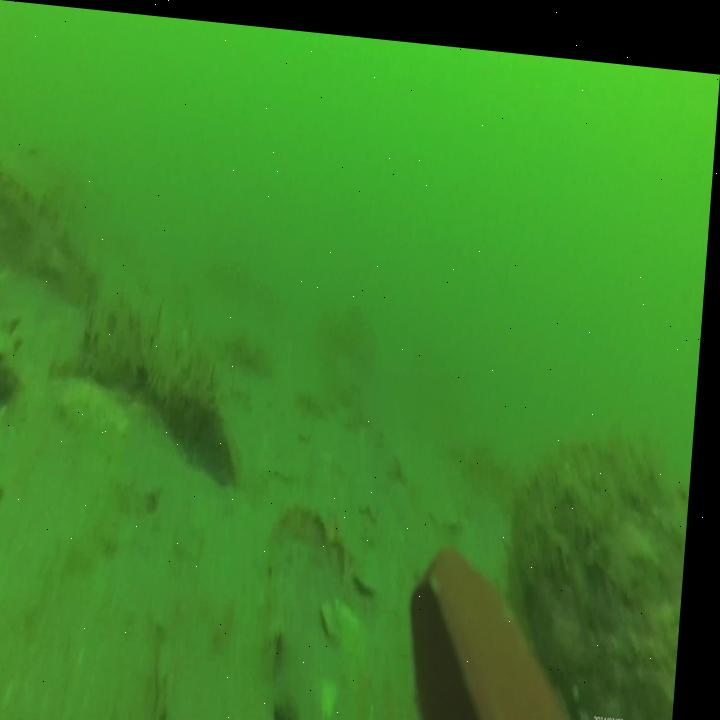holothurian: (0, 160, 110, 303), (0, 256, 37, 413)
